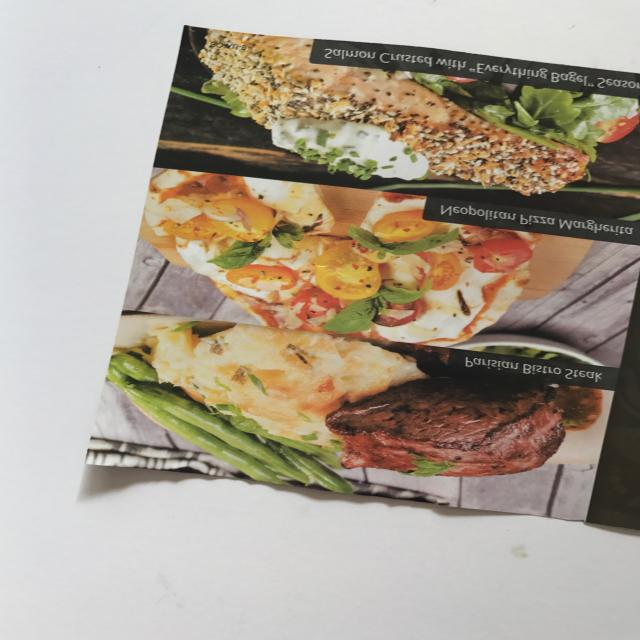paper: (64, 14, 640, 540)
